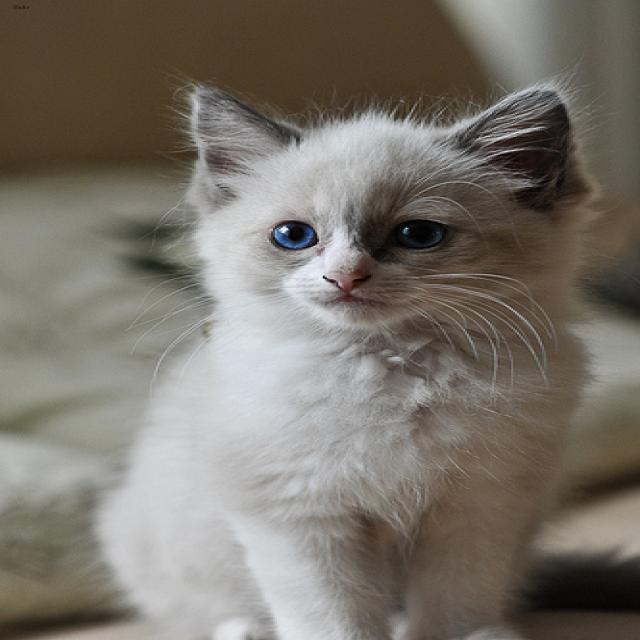Ragdoll: (168, 76, 613, 344)
